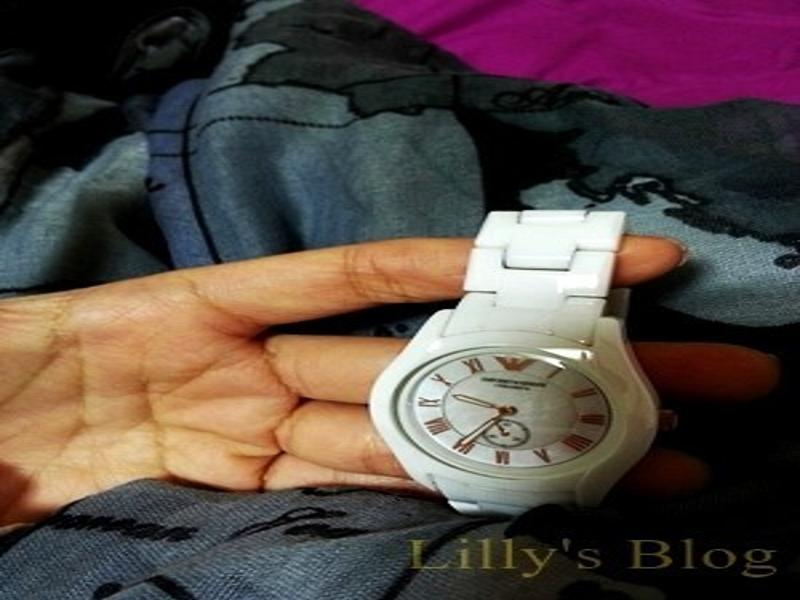watch: (366, 201, 666, 516)
